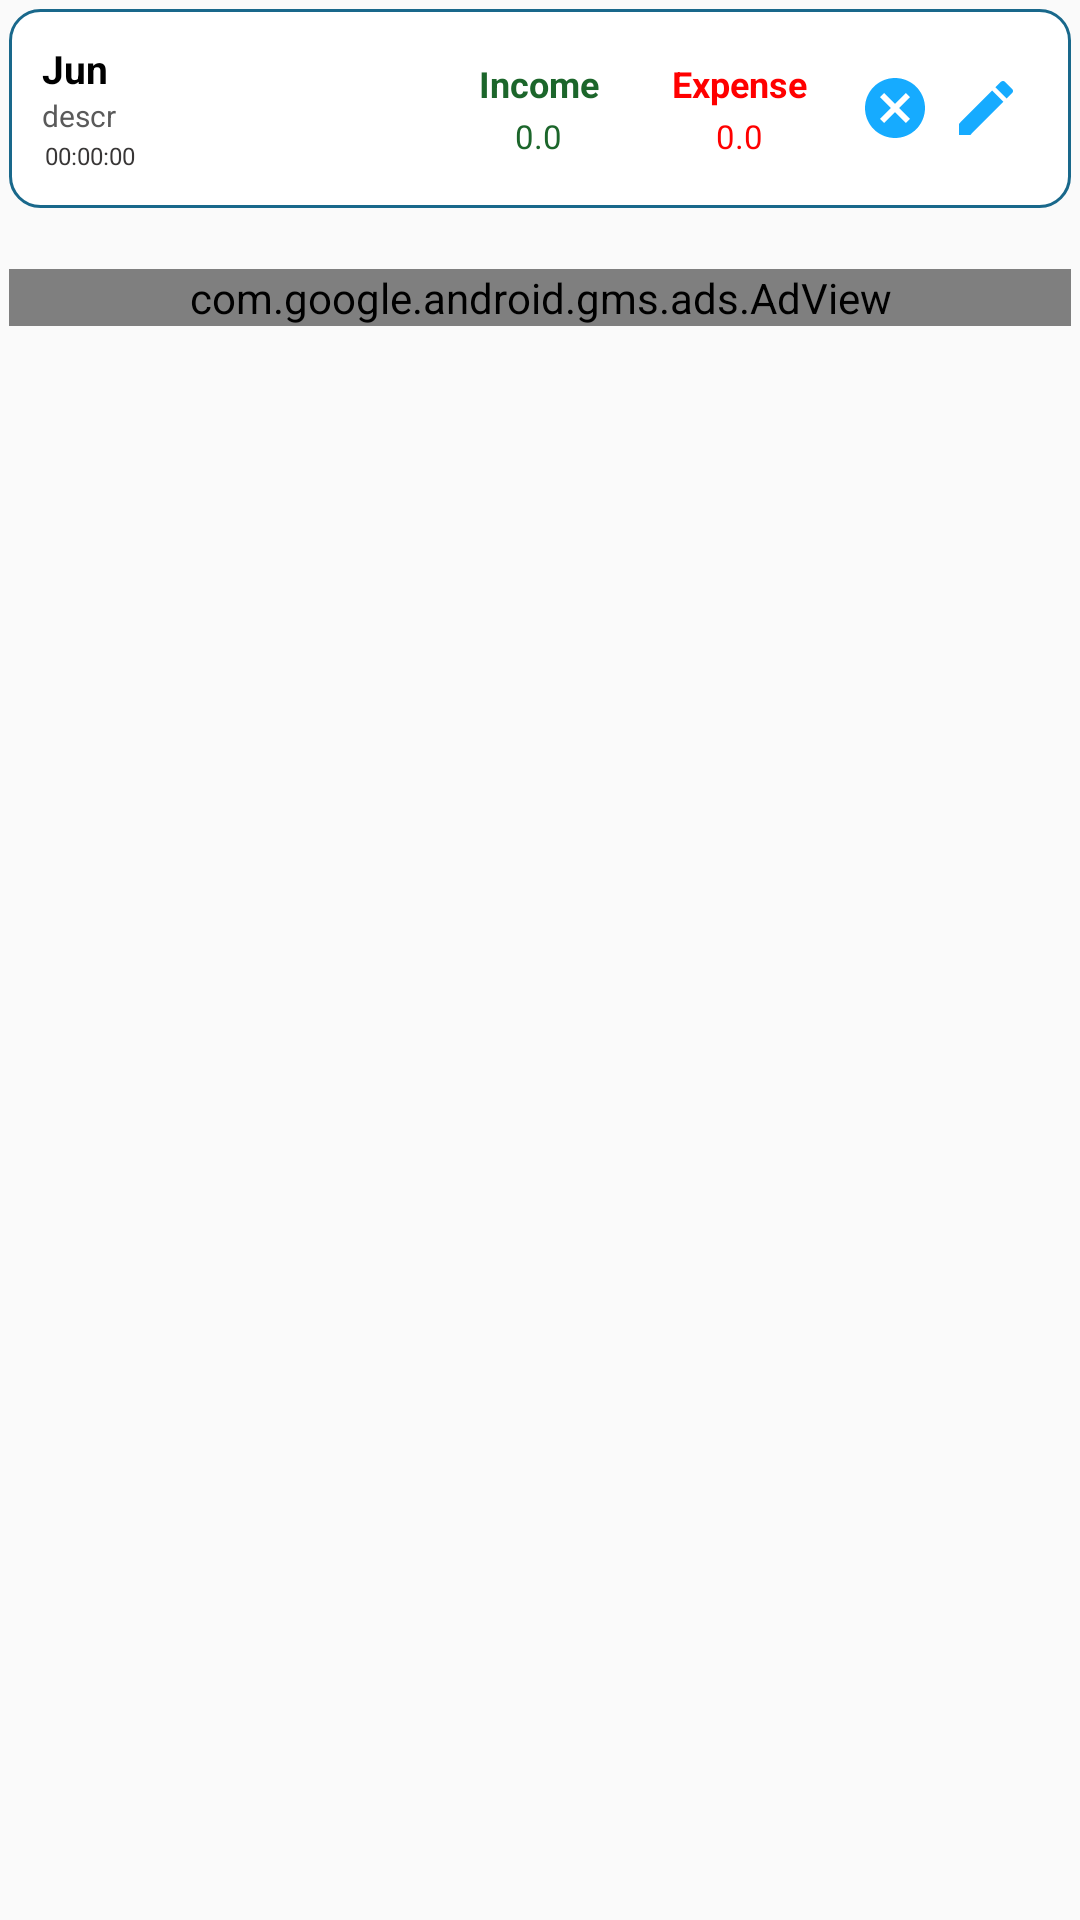

Icons on this 1080px x 1920px Android screen, each with its box as (x1, y1, x2, y2):
cancel: (865, 78, 925, 138)
edit: (959, 81, 1013, 135)
